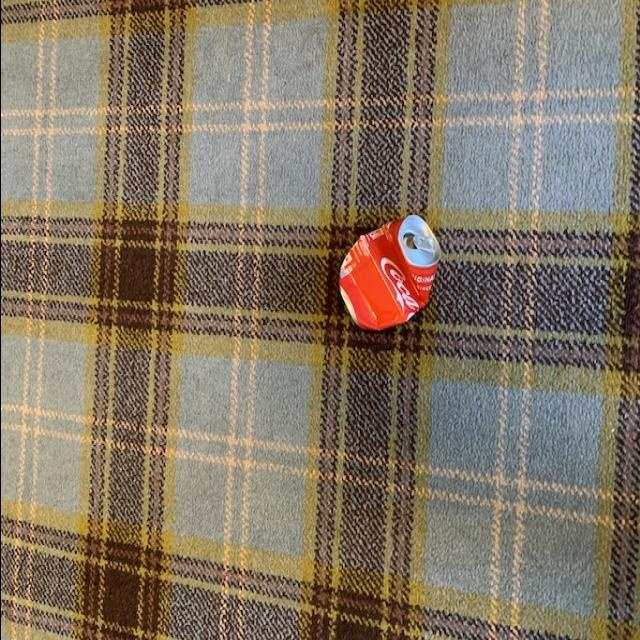litter: (338, 215, 440, 335)
